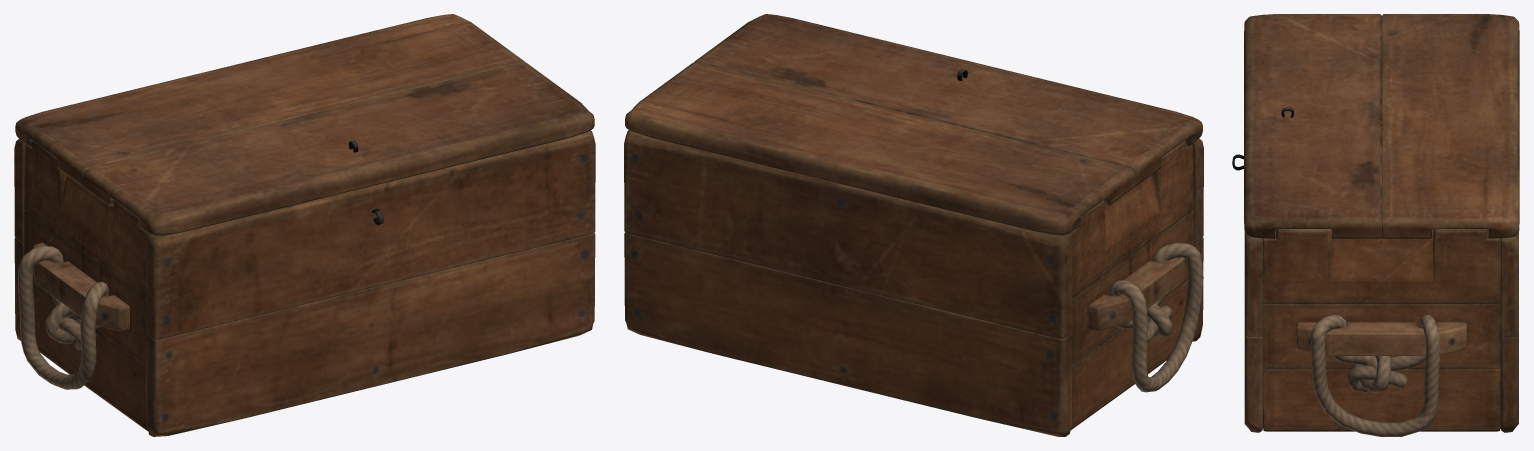
Rendered from SupplyCrate.fbx.
The picture shows the model from 3 angles, left to right: view 1: azimuth 30°, elevation 25°; view 2: azimuth 150°, elevation 25°; view 3: azimuth 270°, elevation 25°; orthographic projection. The views are drawn at different scales.
Visible parts, largest first — view 1: SupplyCrate; view 2: SupplyCrate; view 3: SupplyCrate.
Part boxes in pixels (x1,y1,x2,y2): SupplyCrate: (14, 14, 595, 436); SupplyCrate: (624, 14, 1203, 436); SupplyCrate: (1232, 14, 1519, 436).
Bounding box in the file's own units: 82.53 × 34.96 × 40.9.
1 material, 1 textured.
